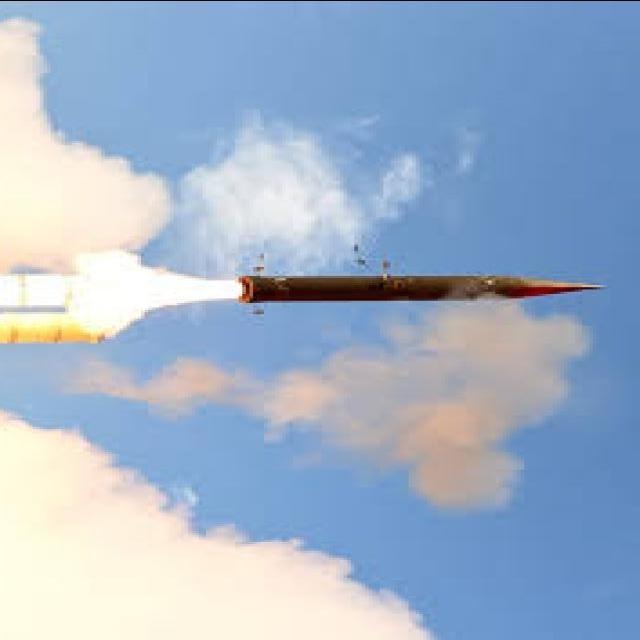missile: (233, 268, 609, 306)
